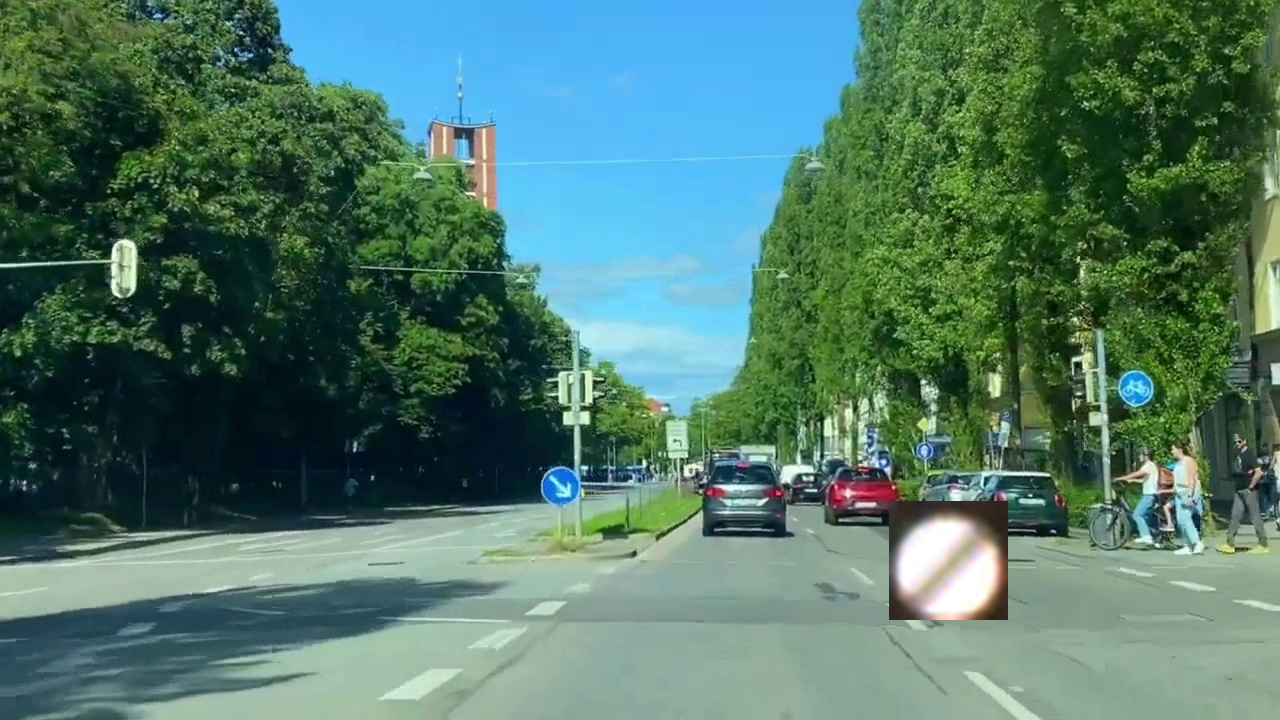End limits: (889, 501, 1008, 620)
